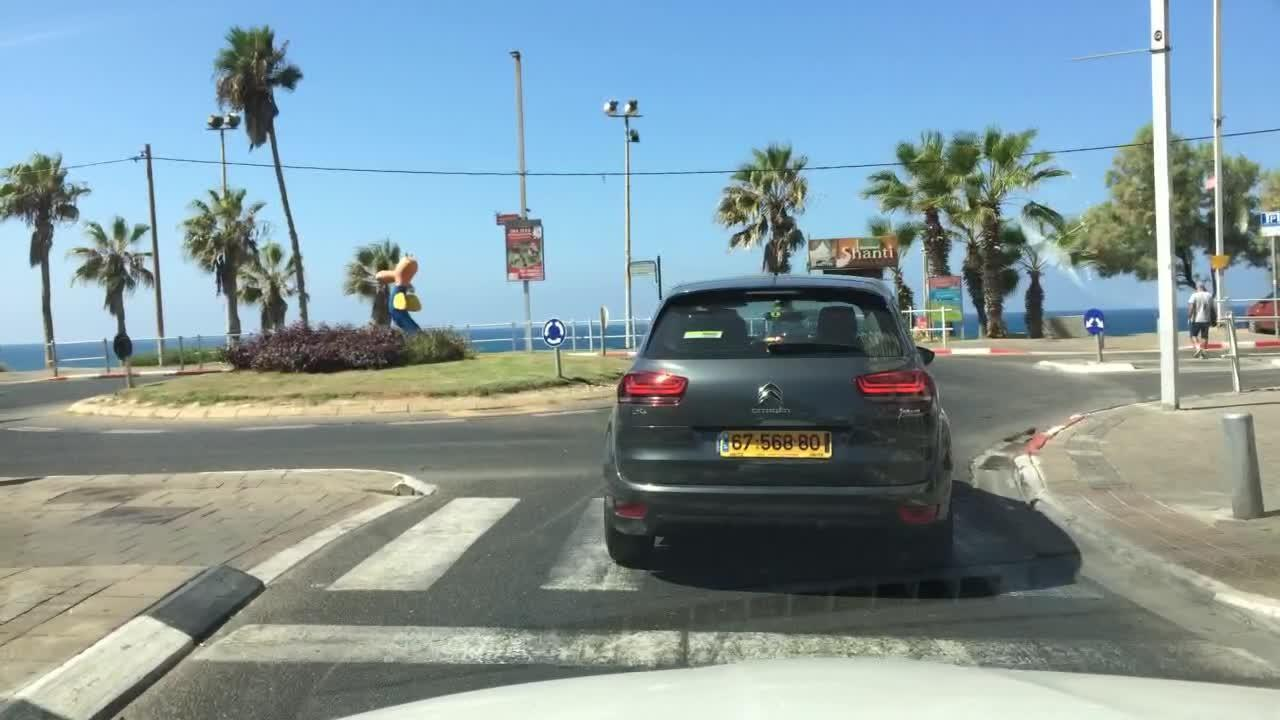Citroen: (747, 375, 790, 410)
